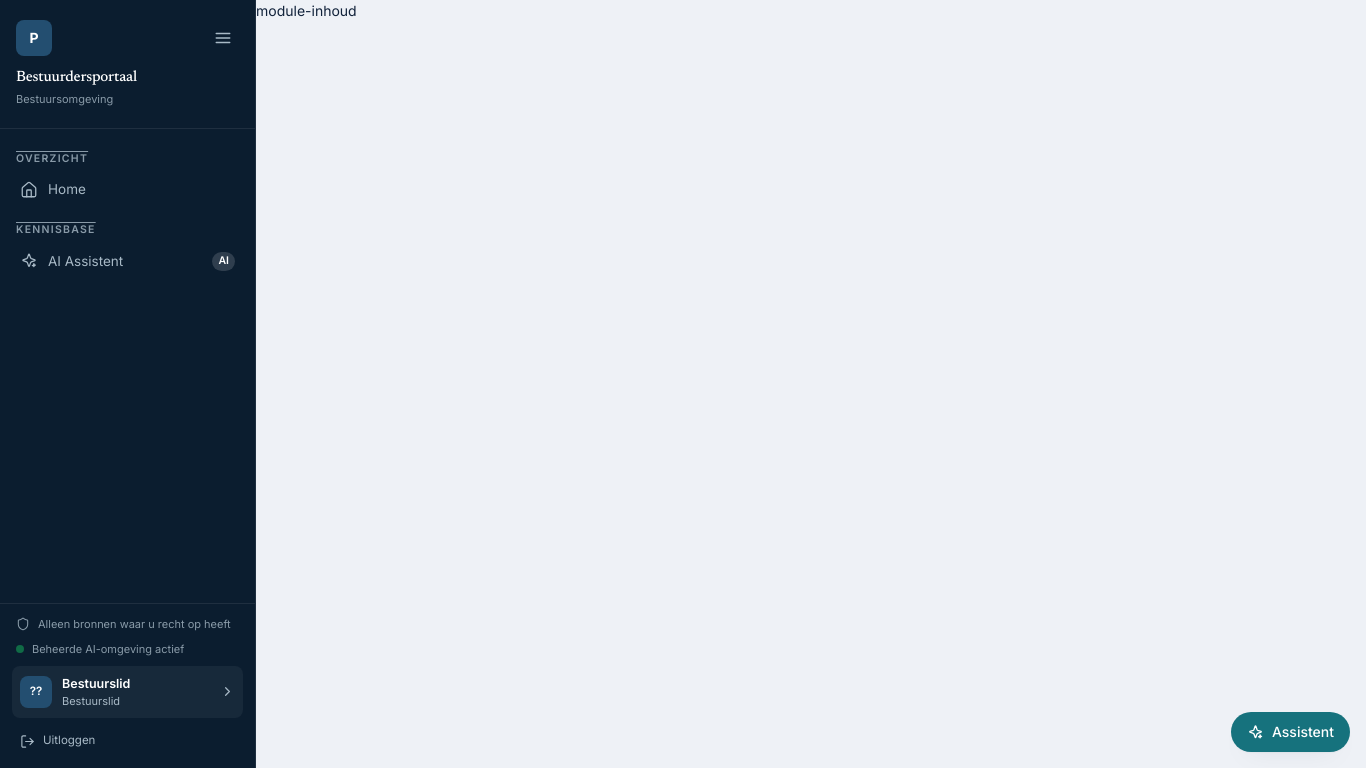
it: DashboardShell met het paneel › schuift de contentkolom op in plaats van hem te overlappen
The image size is (1366, 768).
Expected: the text "gesprek" is not shown
Click the button with aria-label "Assistent openen".
click(1290, 732)  # box top-left (1231, 712), bottom-right (1350, 752)
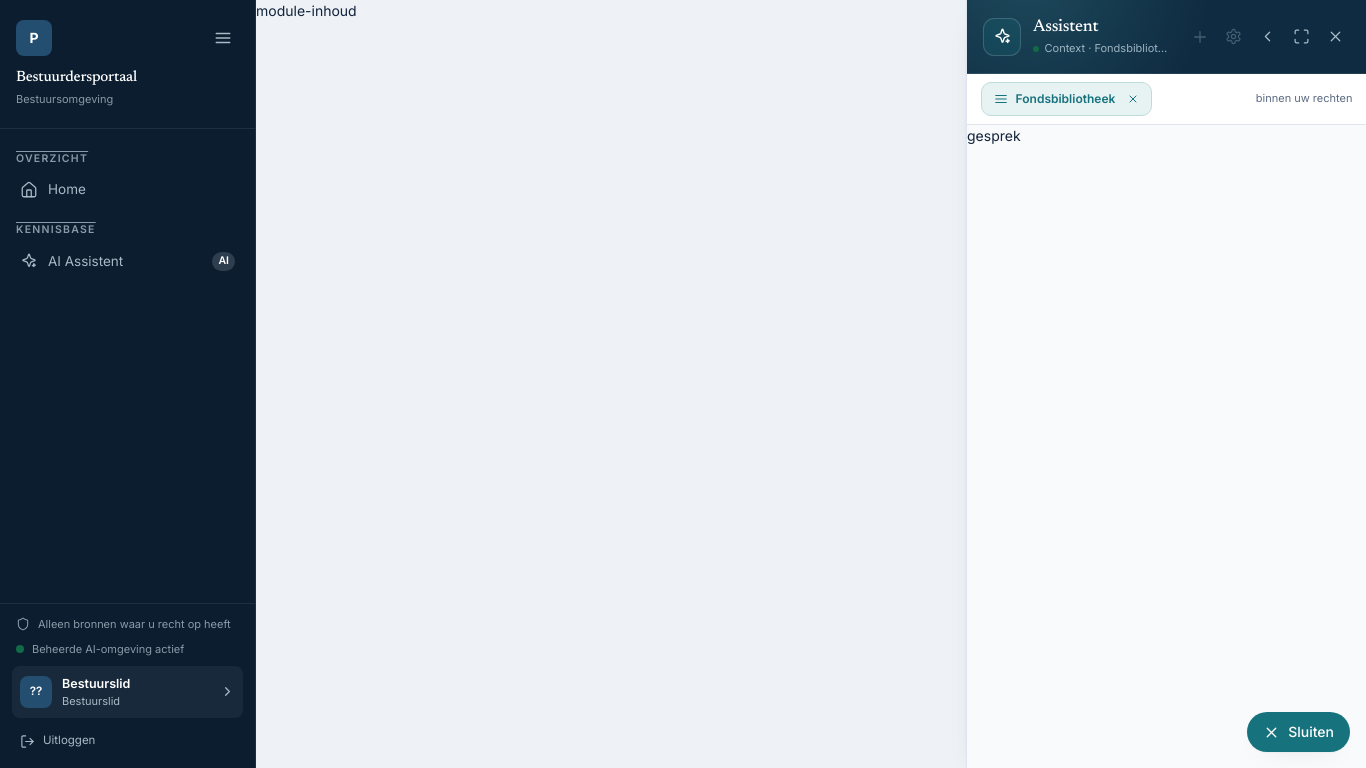
Result: the text "gesprek" is shown at top-left (967, 127), bottom-right (1021, 144)
Result: the text "Context · Fondsbibliotheek" is shown at top-left (1044, 40), bottom-right (1172, 57)
Result: the text "Fondsbibliotheek" is shown at top-left (1016, 91), bottom-right (1115, 107)
